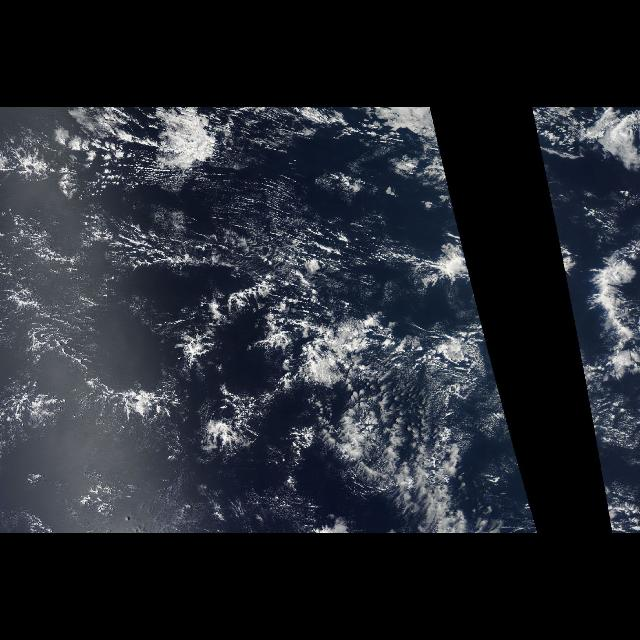Flower: (110, 298, 312, 477)
Sugar: (85, 164, 343, 276)
